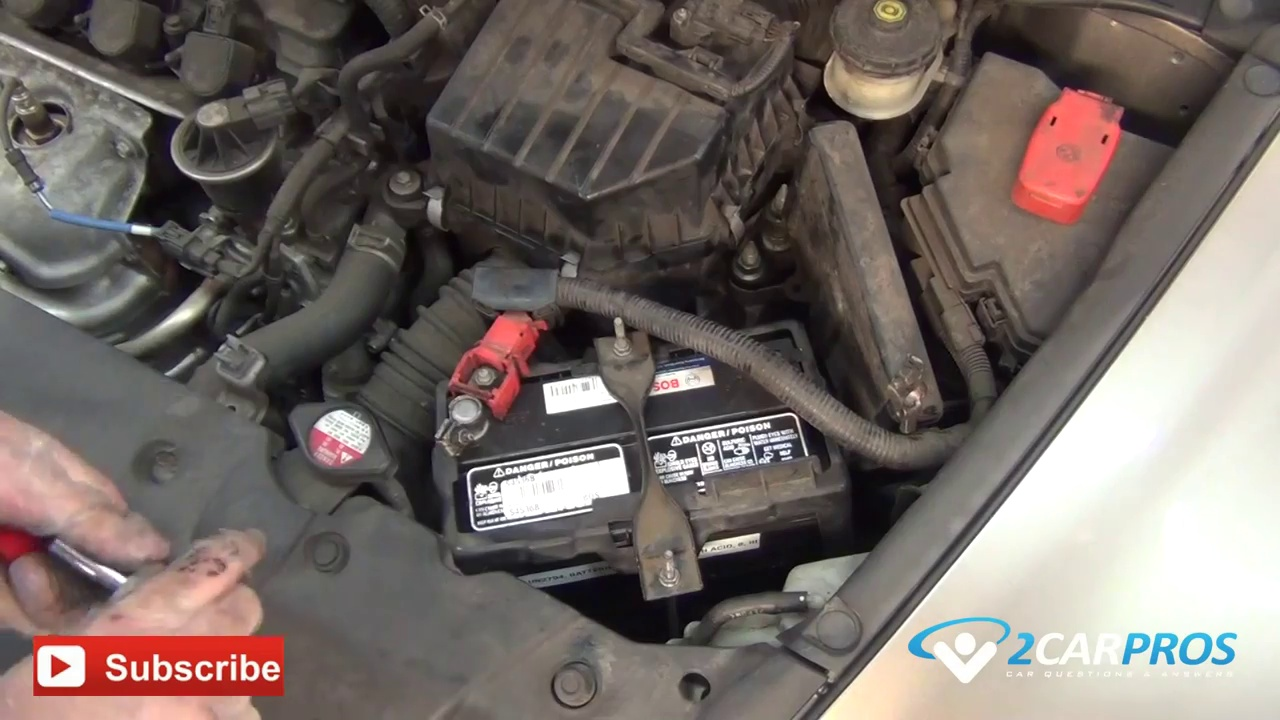battery: (423, 307, 819, 536)
pos_connected: (430, 331, 541, 481)
